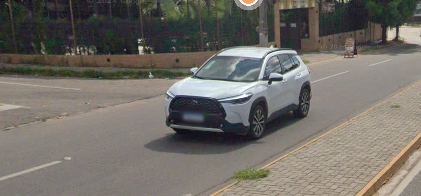car: (163, 38, 313, 147)
